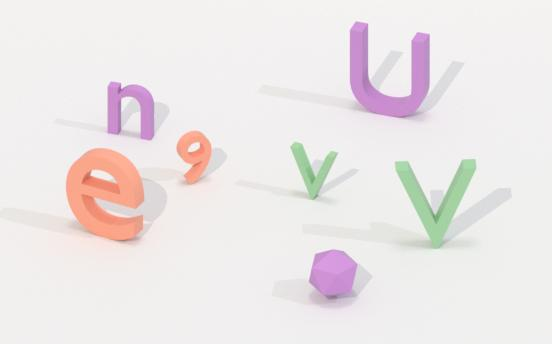9: (175, 127, 214, 187)
dagiac: (306, 249, 360, 299)
e: (64, 146, 146, 246)
n: (105, 78, 157, 143)
u: (348, 18, 431, 122)
v: (391, 149, 478, 253), (289, 135, 340, 205)
